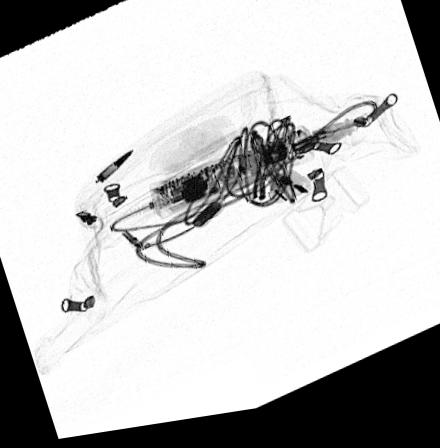Bullet: (96, 154, 134, 185)
